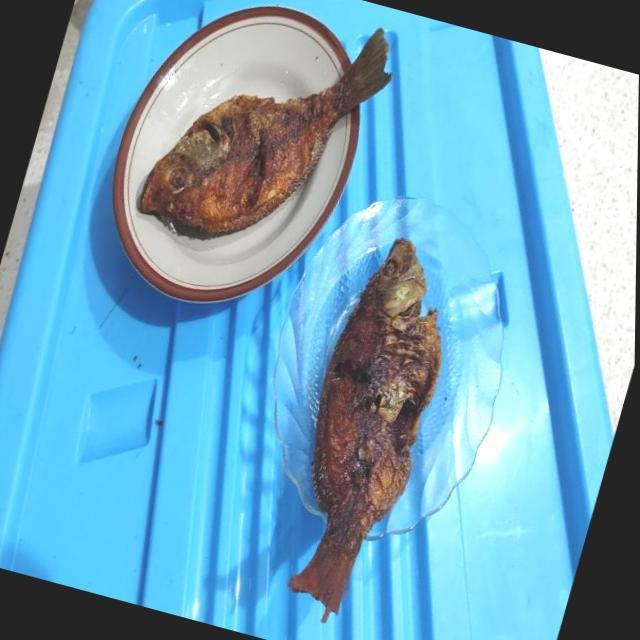ikan_mujair: (288, 238, 441, 622), (140, 28, 392, 235)
